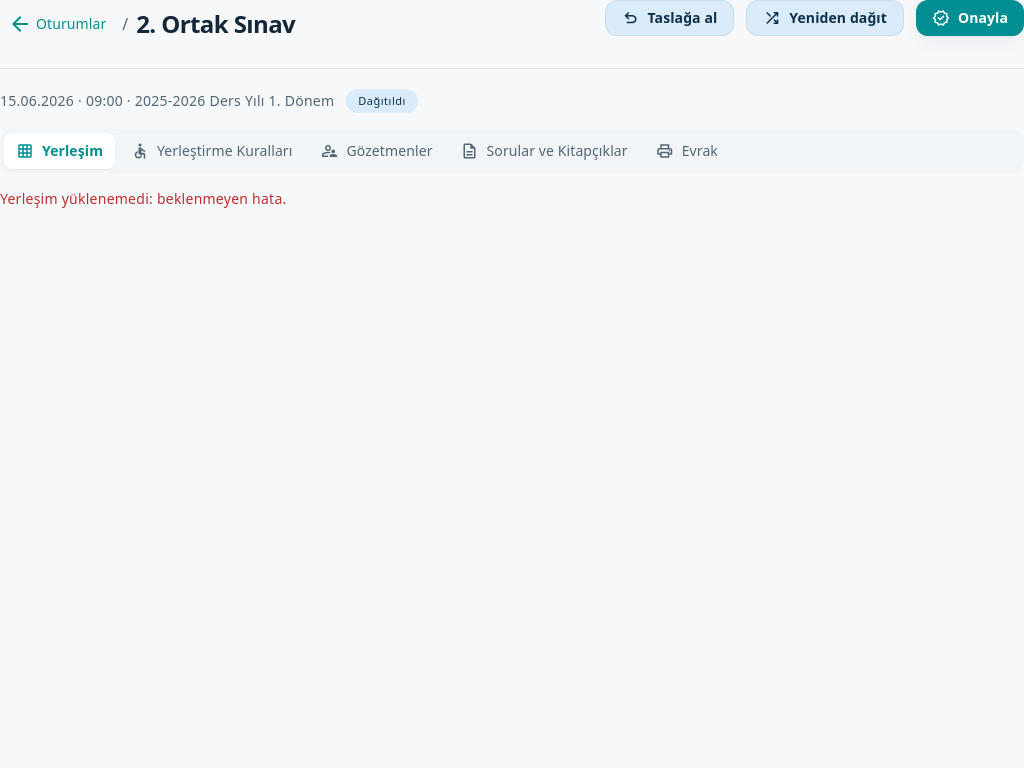
it: OturumDetayPage › DAĞITILDI: 'Onayla' diyalogdan geçer; ad boşsa boş gönderilir (backend okul müdürünü yazar)
Click the button "Onayla": (970, 18) [916,0,1023,36]
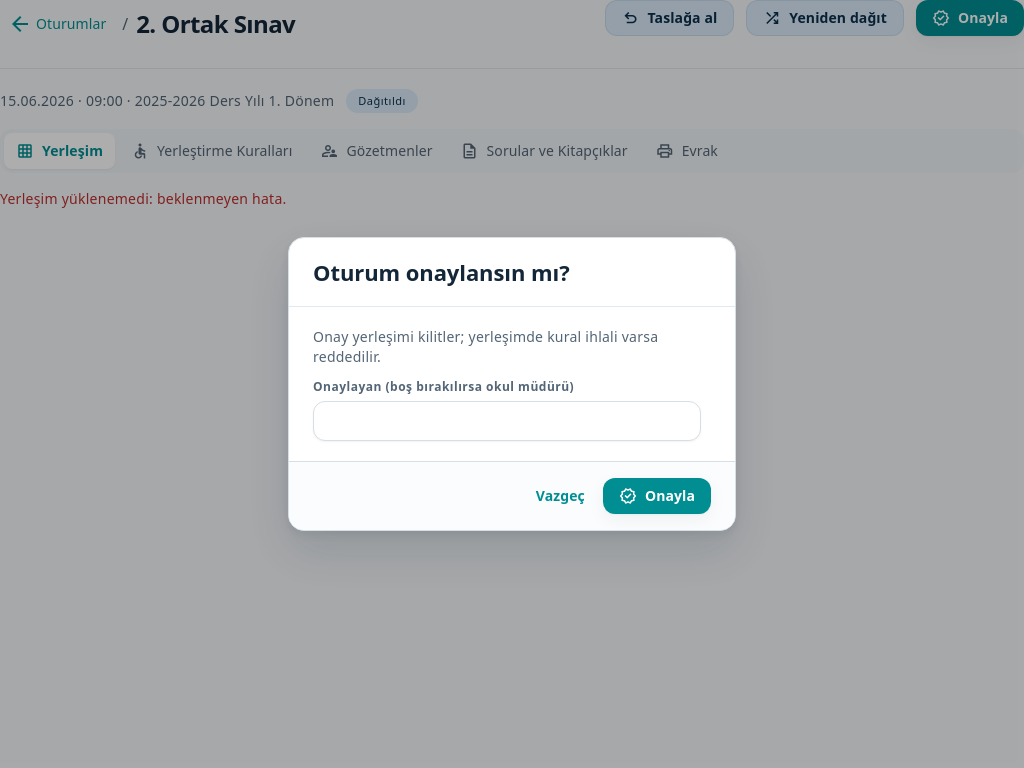
Expected: the text "Onay yerleşimi kilitler; yerleşimde kural ihlali varsa reddedilir." is shown, [313,327,701,367]
Click the button "Onayla": (657, 496) [603,478,711,514]
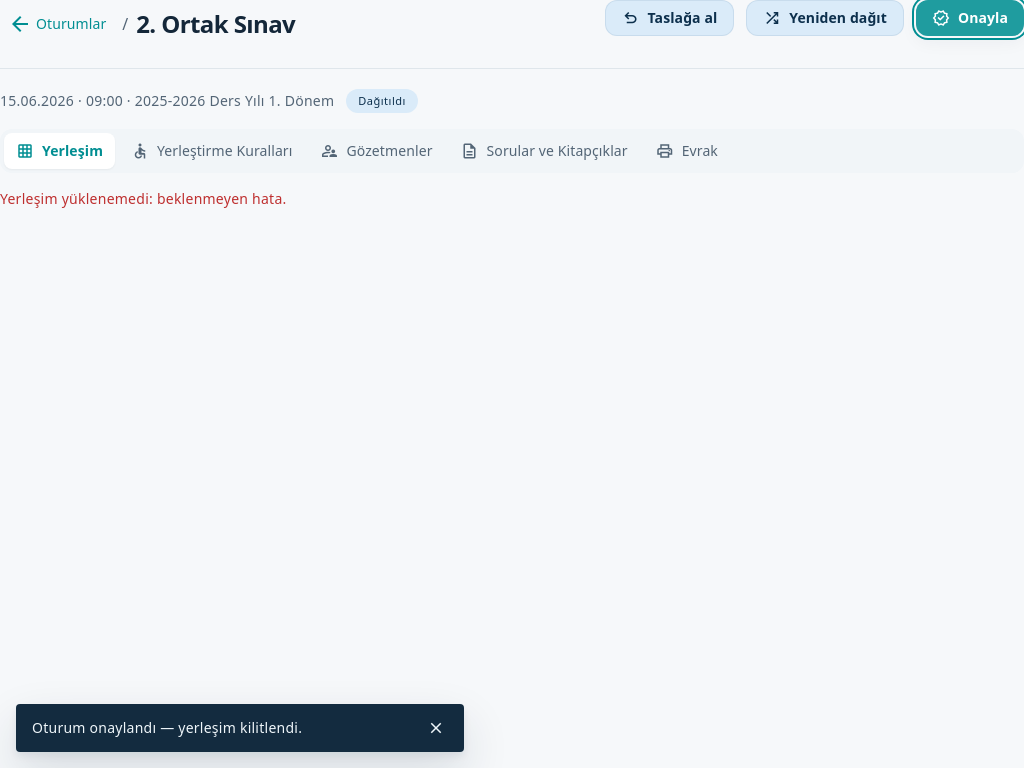
Expected: the text "Oturum onaylandı — yerleşim kilitlendi." is shown, [32,718,302,737]
Expected: the heading "Oturum onaylansın mı?" is gone
